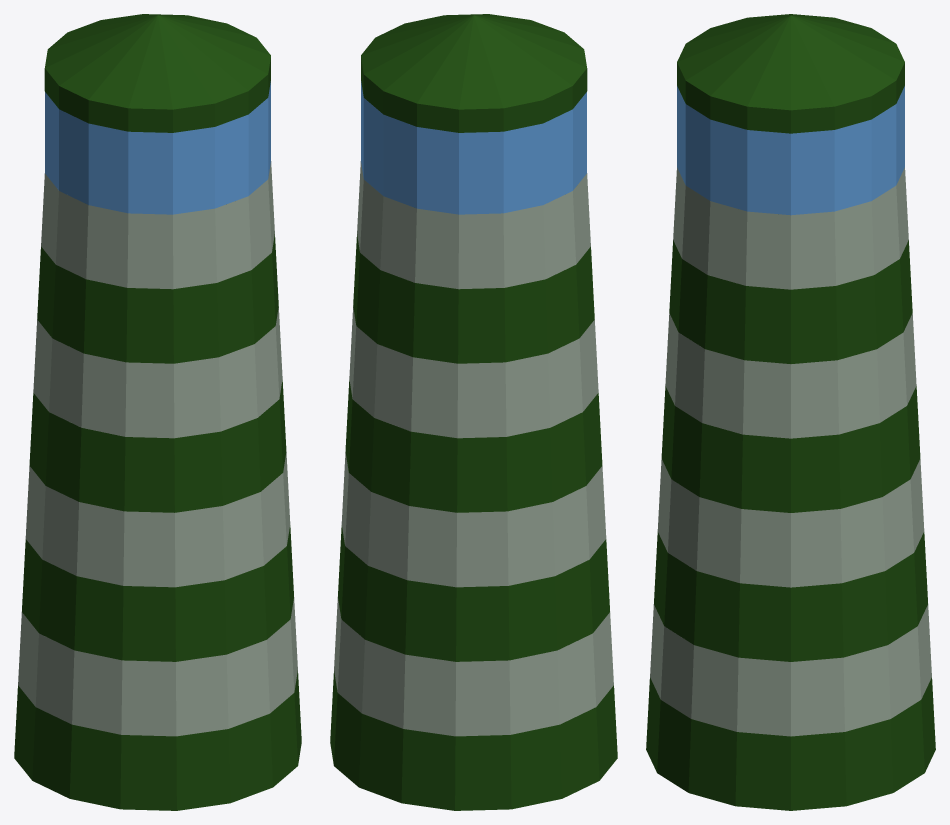
The model's file is lighthouse_1.CmNpQWpA.glb.
3 renders of one model, left to right at view 1: azimuth 30°, elevation 25°; view 2: azimuth 150°, elevation 25°; view 3: azimuth 270°, elevation 25°, orthographic.
Visible parts, largest first — view 1: base; view 2: base; view 3: base.
Boxes of the visible parts, bbox=[...] form: base: bbox=[14, 14, 301, 810]; base: bbox=[330, 14, 617, 810]; base: bbox=[646, 14, 935, 810].
Bounding box in the file's own units: 0.5635 × 1.58 × 0.5635.
